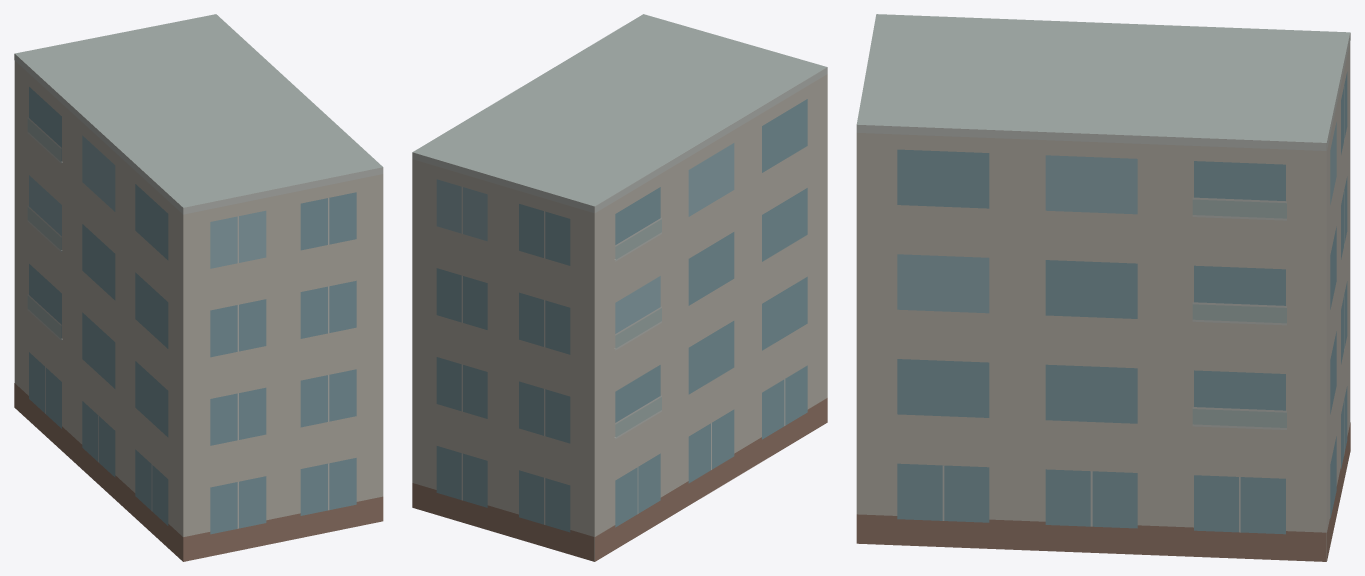
The model's file is survey-upis-32995491.glb.
3 views of the same model, side by side, from view 1: azimuth 30°, elevation 25°; view 2: azimuth 150°, elevation 25°; view 3: azimuth 270°, elevation 25° (orthographic). The views are drawn at different scales.
Parts seen in each view (by area): view 1: survey-upis-32995491.tmp; view 2: survey-upis-32995491.tmp; view 3: survey-upis-32995491.tmp.
Part boxes in pixels (x1,y1,x2,y2): survey-upis-32995491.tmp: (14, 14, 383, 561); survey-upis-32995491.tmp: (412, 14, 827, 561); survey-upis-32995491.tmp: (856, 14, 1350, 561).
Bounding box in the file's own units: 8.4 × 12.7 × 13.58.
